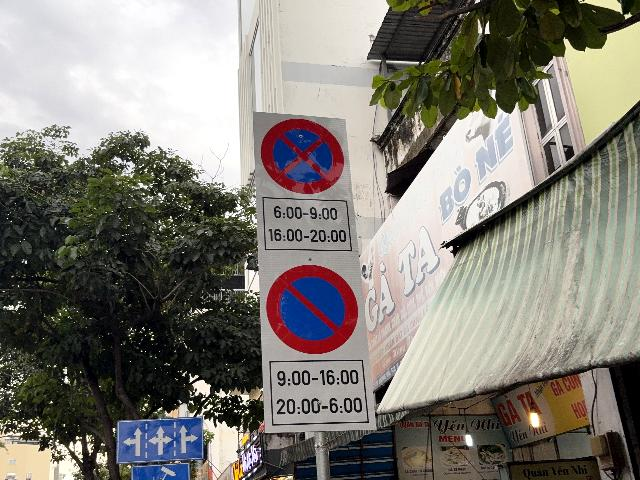cam-do-xe: (265, 264, 359, 353)
cam-dung-va-do-xe: (261, 119, 343, 194)
